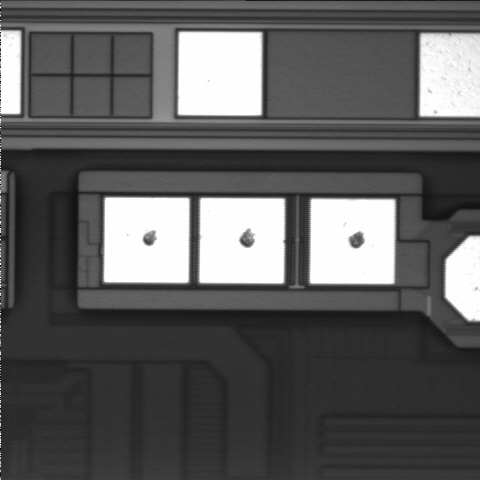pad: (104, 198, 189, 283), (199, 198, 284, 283), (310, 199, 395, 284), (178, 32, 262, 115)
